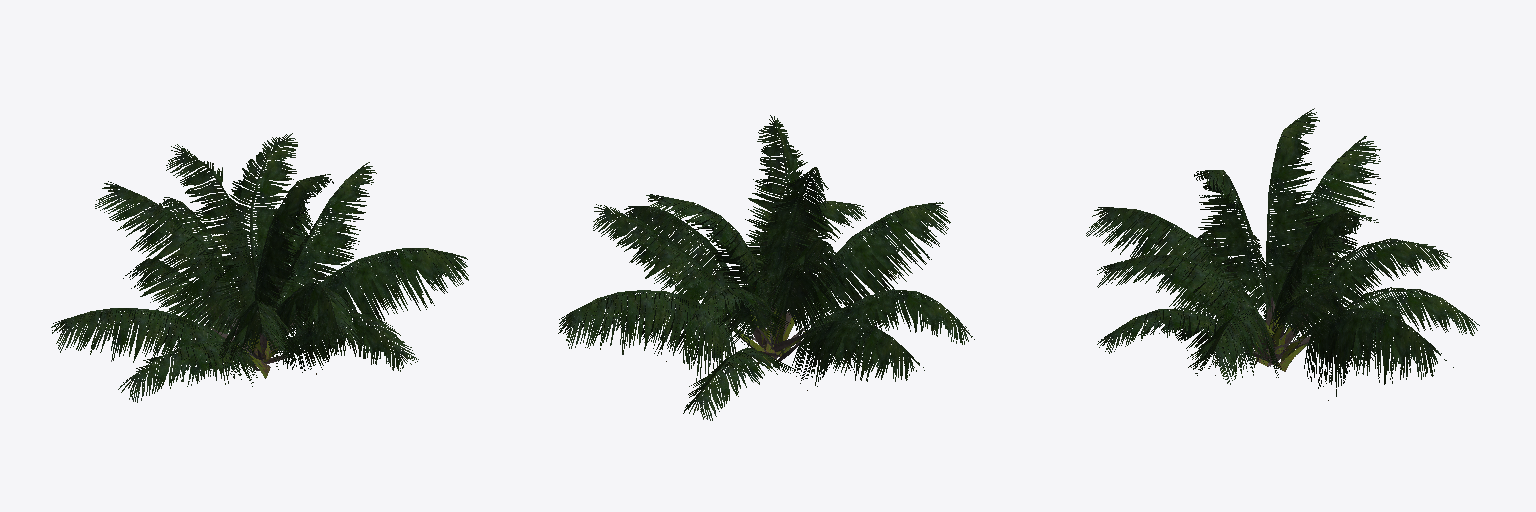
The picture shows the model from 3 angles: view 1: azimuth 30°, elevation 25°; view 2: azimuth 150°, elevation 25°; view 3: azimuth 270°, elevation 25°; orthographic projection.
Visible parts, largest first — view 1: Object_2; view 2: Object_2; view 3: Object_2.
Part boxes in pixels (x1,y1,x2,y2): Object_2: (51, 133, 468, 402); Object_2: (558, 115, 974, 420); Object_2: (1086, 108, 1479, 400).
Bounding box in the file's own units: 4.47 × 2.68 × 4.22.
Materials: 1 (1 with a texture image).